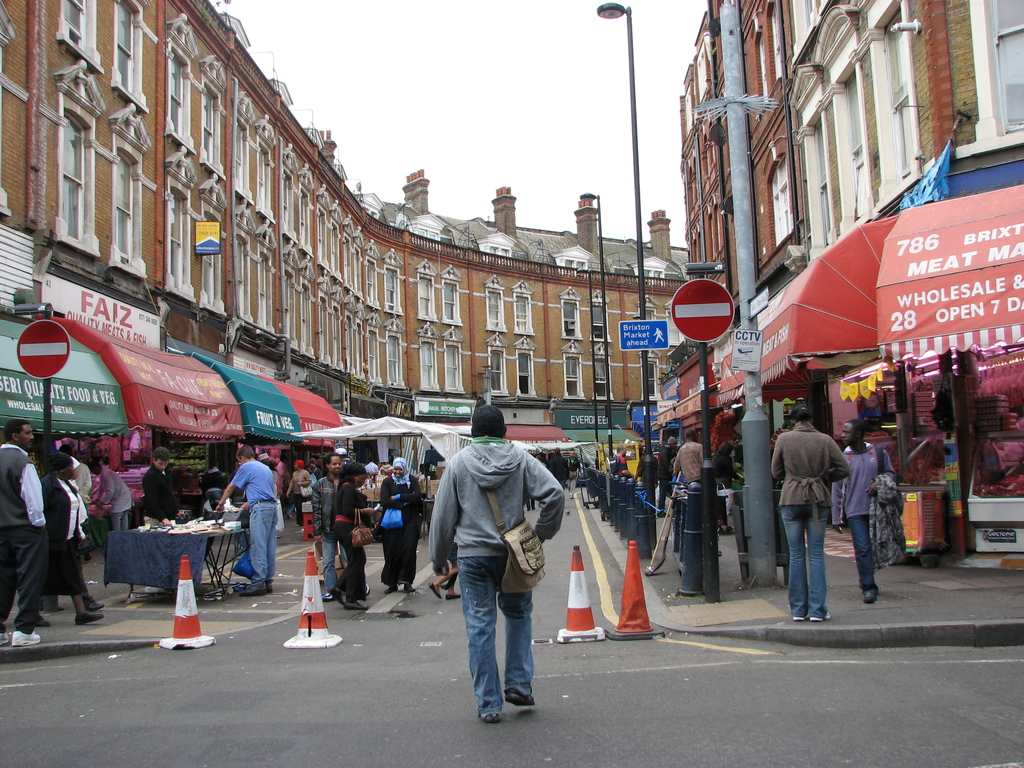Footwear: (501, 689, 536, 707), (11, 630, 41, 650), (83, 595, 106, 613), (792, 612, 829, 623), (76, 613, 104, 627), (236, 585, 275, 593), (342, 601, 369, 611), (428, 582, 444, 598), (861, 591, 878, 604), (477, 712, 497, 723), (323, 591, 339, 604), (38, 617, 52, 627), (364, 584, 372, 599), (445, 595, 461, 601), (0, 634, 8, 644)
